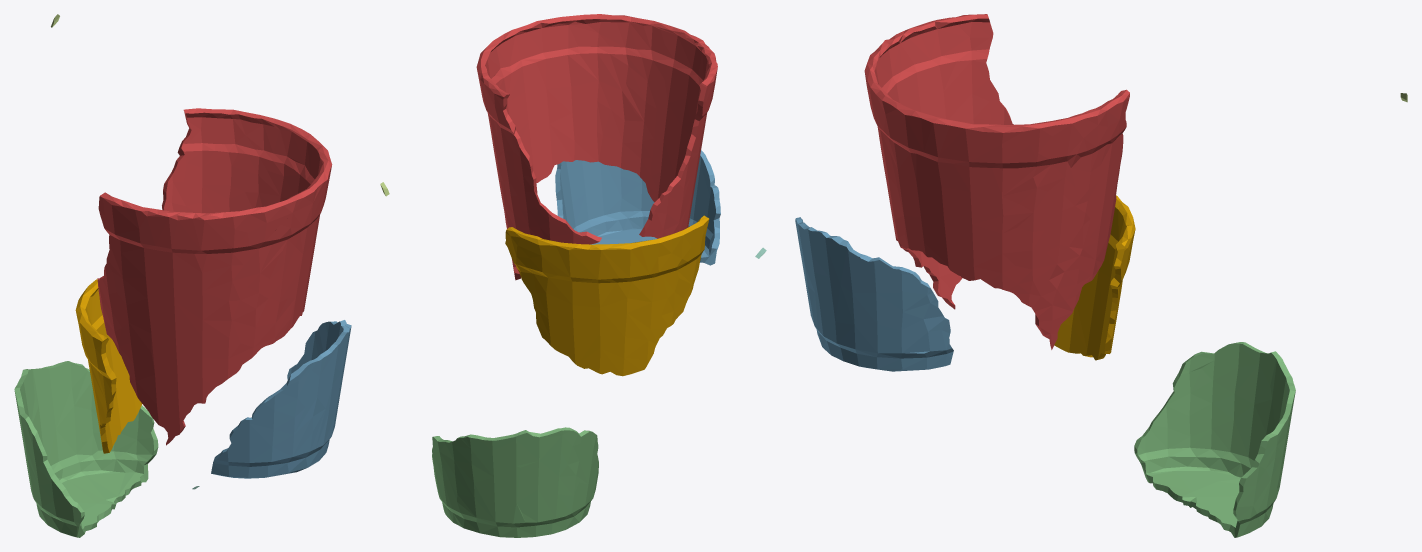
The model's file is mode_5_6pcs_transformed.glb.
3 views of the same model, side by side, from view 1: azimuth 30°, elevation 25°; view 2: azimuth 150°, elevation 25°; view 3: azimuth 270°, elevation 25° (orthographic). The views are drawn at different scales.
Parts seen in each view (by area): view 1: piece_1.obj, piece_3.obj, piece_2.obj, piece_0.obj; view 2: piece_1.obj, piece_0.obj, piece_3.obj, piece_2.obj; view 3: piece_1.obj, piece_3.obj, piece_2.obj, piece_0.obj.
Part boxes in pixels (x1,y1,x2,y2): piece_1.obj: (97,108,332,445); piece_3.obj: (14,361,158,537); piece_2.obj: (211,320,351,478); piece_0.obj: (75,279,141,453); piece_1.obj: (476,14,717,280); piece_0.obj: (505,215,709,376); piece_3.obj: (432,427,598,537); piece_2.obj: (555,150,720,265); piece_1.obj: (864,14,1129,349); piece_3.obj: (1134,342,1295,537); piece_2.obj: (795,217,953,371); piece_0.obj: (1054,195,1135,360).
Bounding box in the file's own units: 0.8678 × 1.53 × 1.92.
